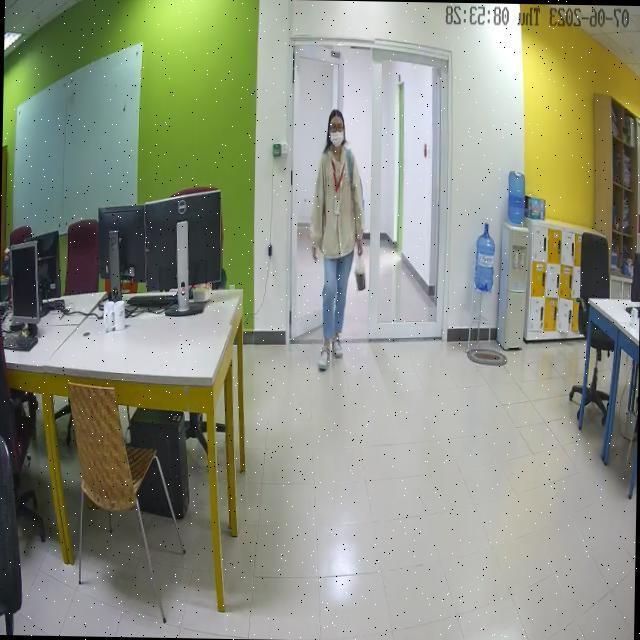person: (310, 112, 366, 374)
